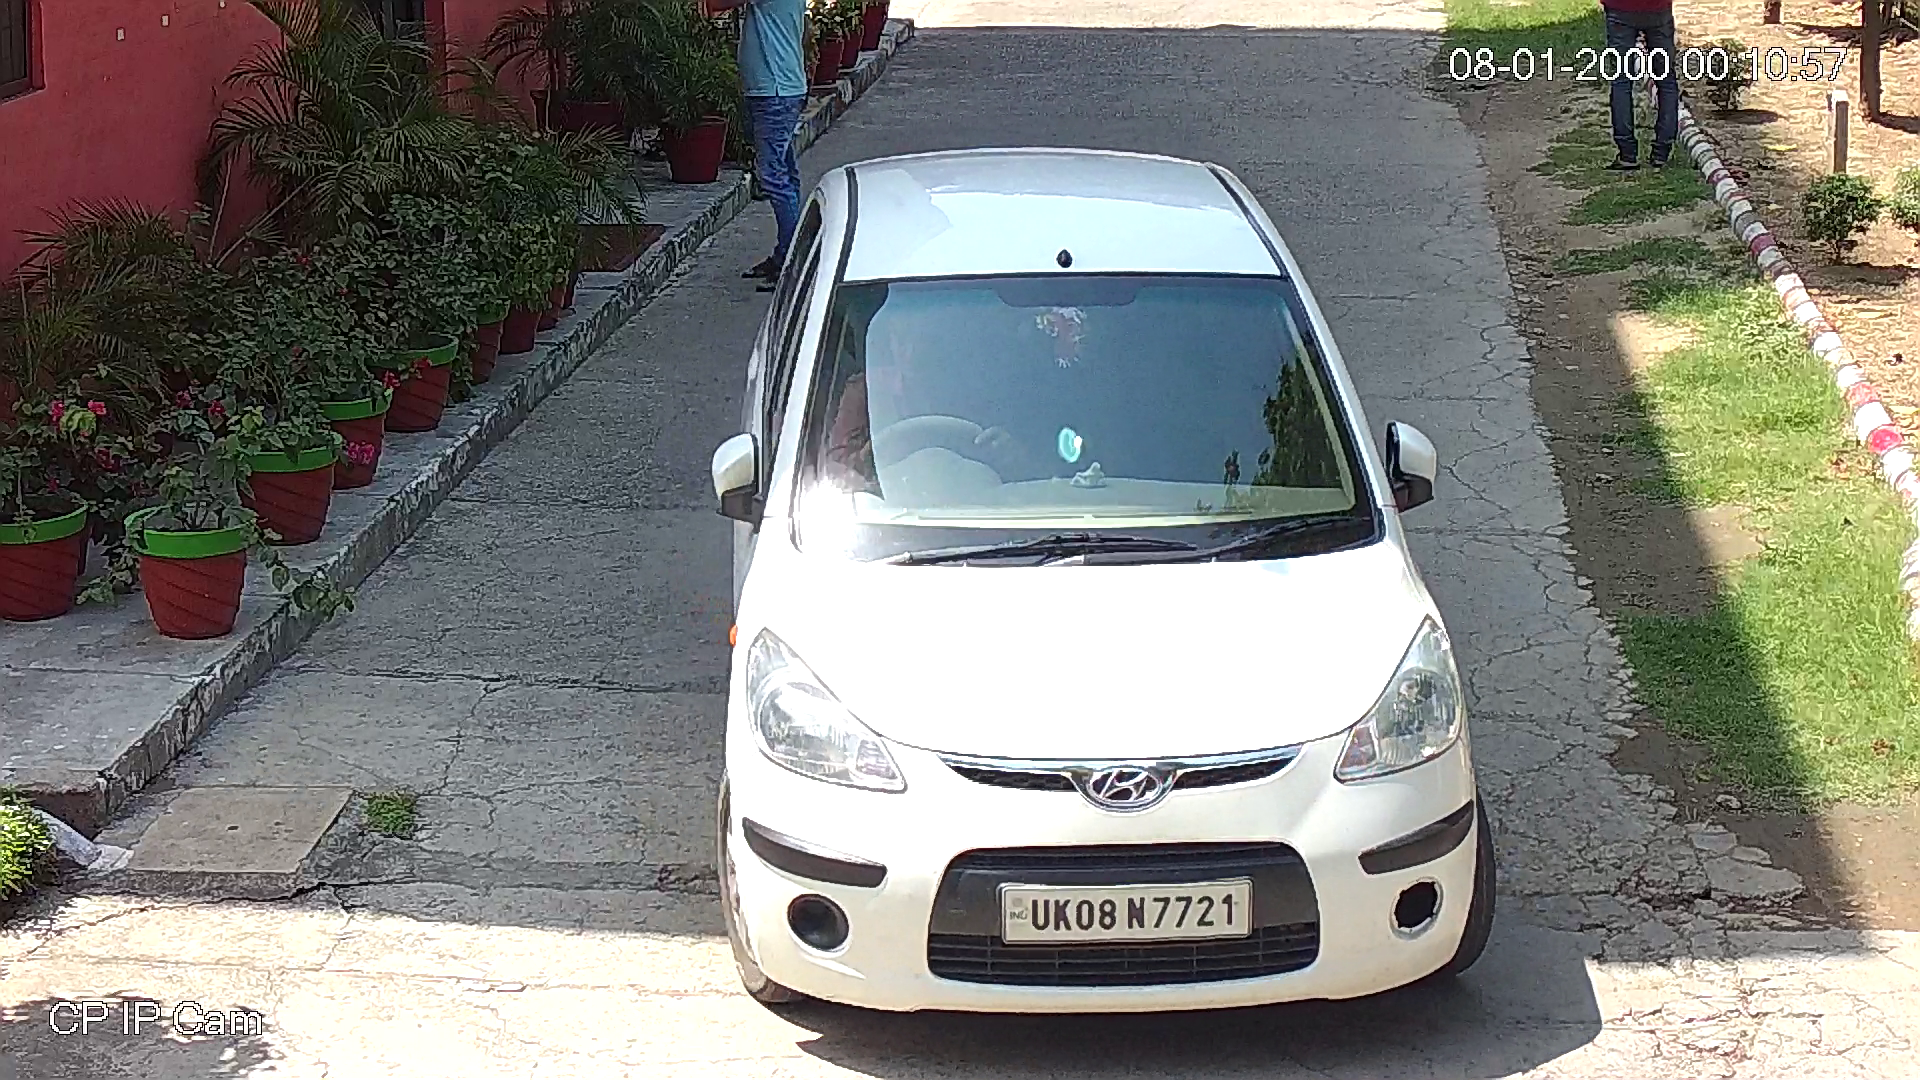plate: (996, 874, 1264, 952)
